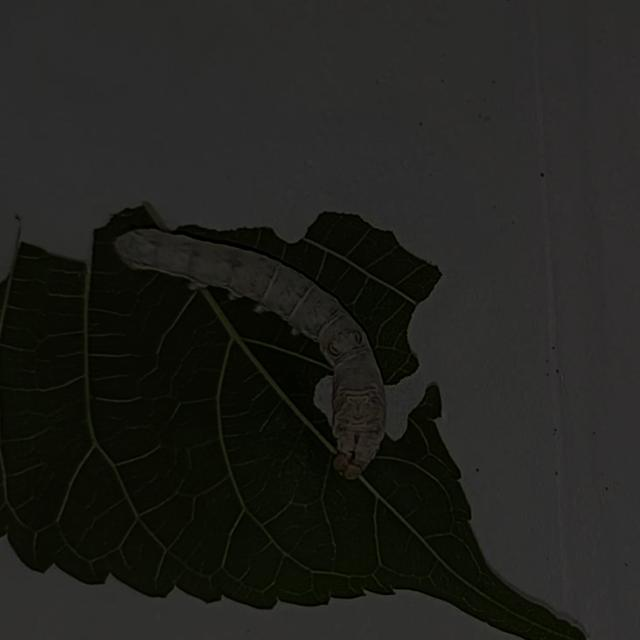Healthy: (80, 186, 433, 504)
